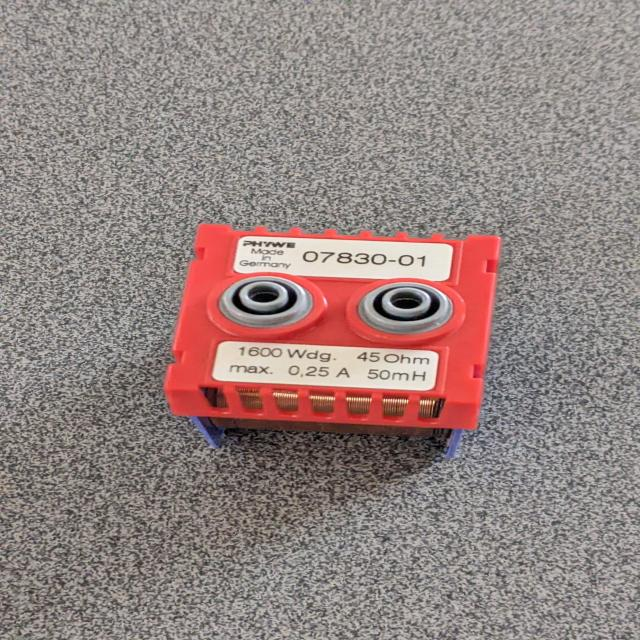Solenoid: (119, 224, 528, 462)
